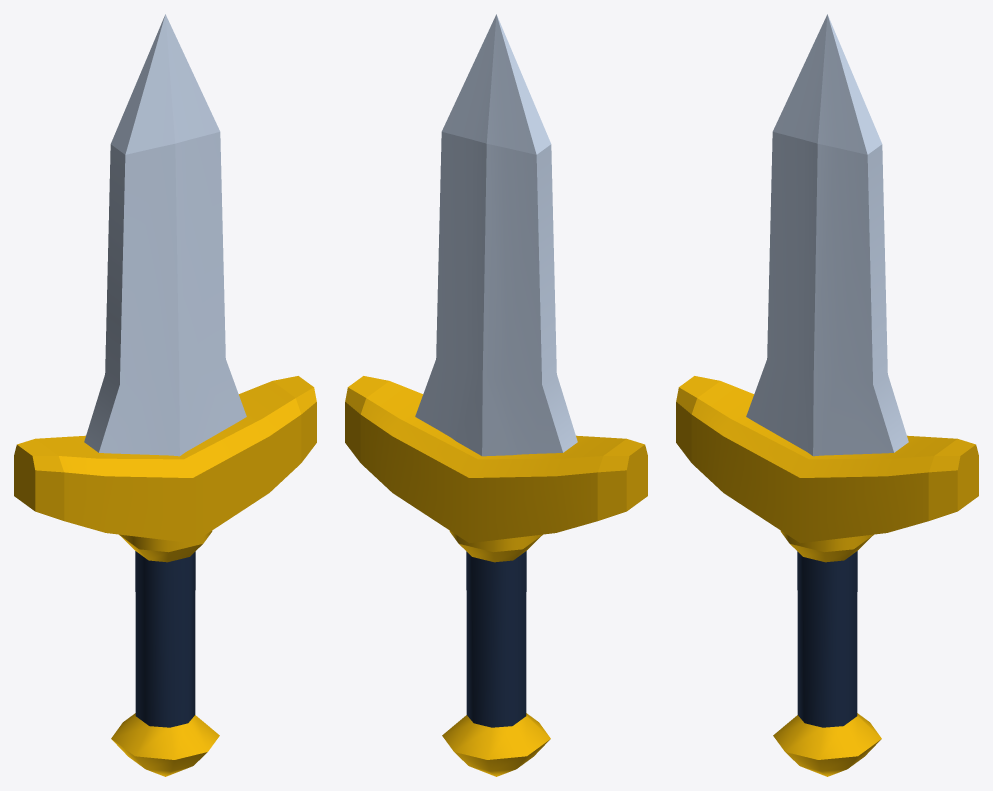
The model's file is Sword_LHand_15.fbx.
The picture shows the model from 3 angles, left to right: view 1: azimuth 30°, elevation 25°; view 2: azimuth 150°, elevation 25°; view 3: azimuth 330°, elevation 25°; orthographic projection.
Visible parts, largest first — view 1: Sword_LHand_15; view 2: Sword_LHand_15; view 3: Sword_LHand_15.
Boxes of the visible parts, <box> form: Sword_LHand_15: <box>14,14,316,776</box>; Sword_LHand_15: <box>345,14,647,776</box>; Sword_LHand_15: <box>676,14,978,776</box>.
Bounding box in the file's own units: 27.88 × 72.18 × 9.35.
